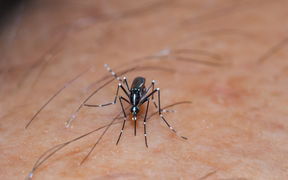dengue_mosquito: (84, 71, 188, 145)
